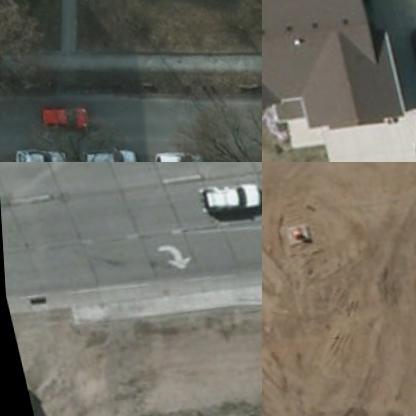car: (191, 174, 261, 214), (36, 93, 87, 134), (74, 139, 136, 161), (146, 138, 205, 161), (7, 138, 65, 161), (399, 92, 415, 161), (407, 18, 415, 83)
